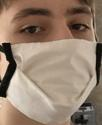with_mask: (1, 1, 102, 125)
